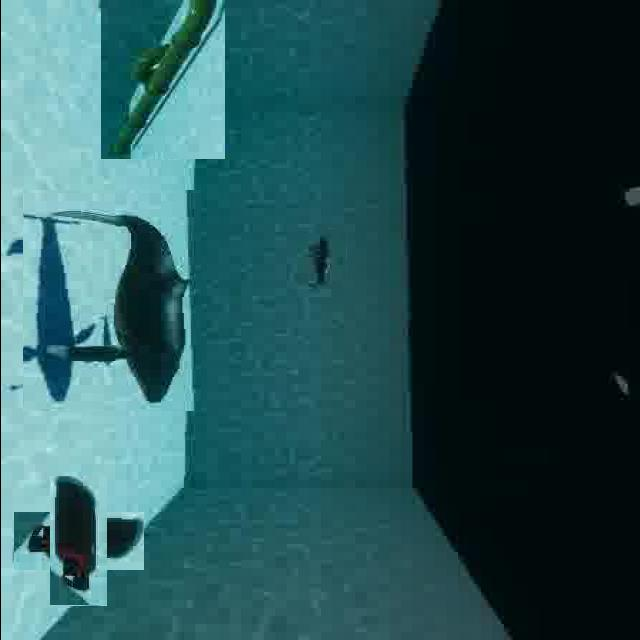Cylinder: (30, 494, 124, 588)
Pipe: (100, 0, 224, 159)
Whale: (22, 190, 200, 411), (290, 228, 346, 302)
